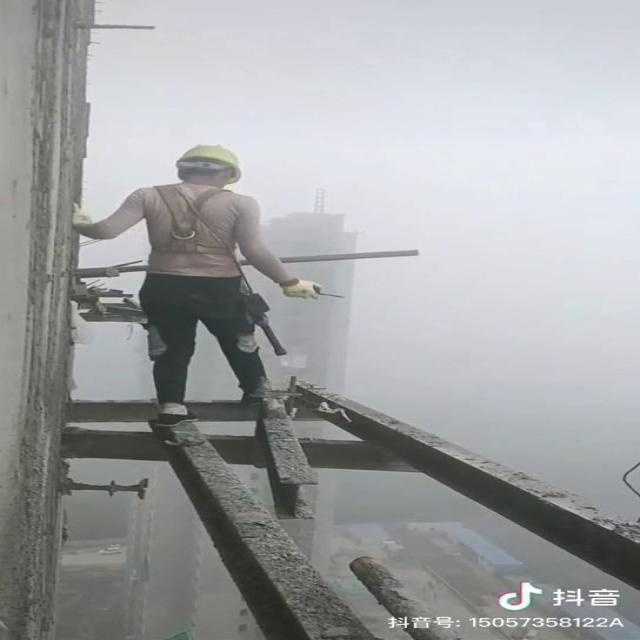Arnes_seguridad: (131, 182, 258, 270)
